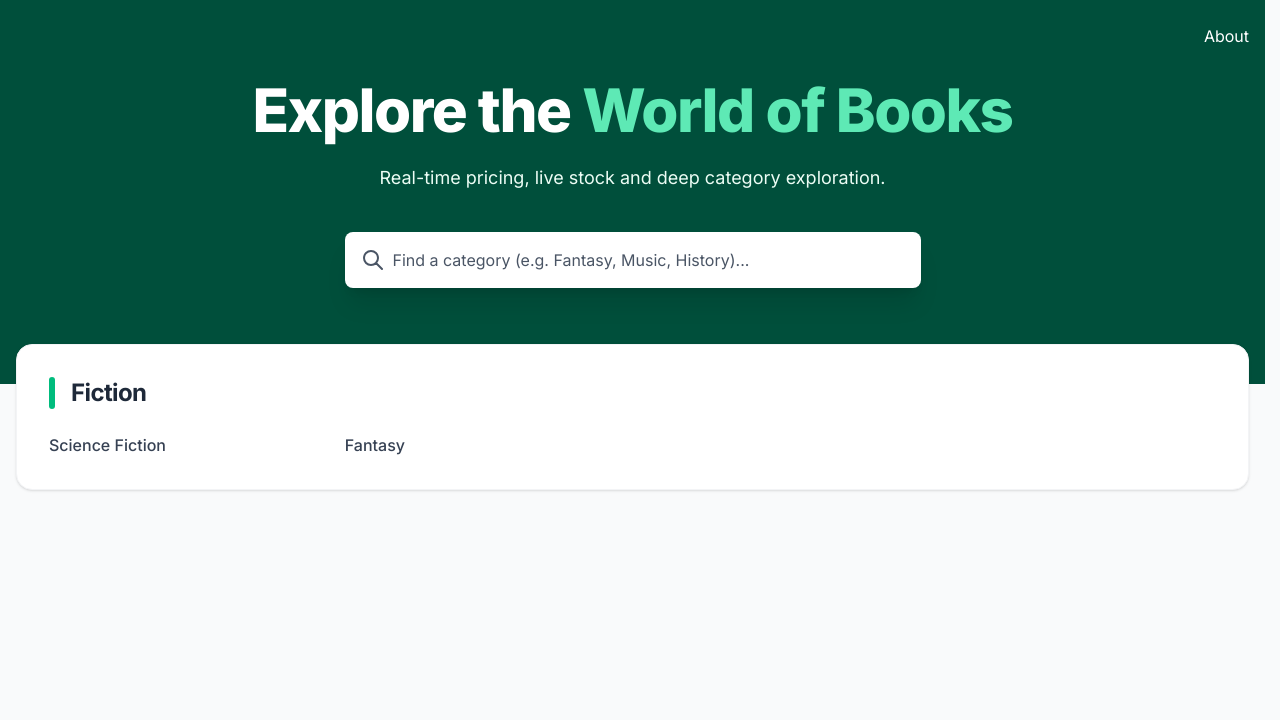
Scenario: HomePage › should suggest the closest category for a typo
Expected: the text "Fantasy" is shown, left=345, top=435, right=405, bottom=455
Type "fantsy" into the search field labelled "Find a category" at x=632, y=260, box left=344, top=232, right=920, bottom=288
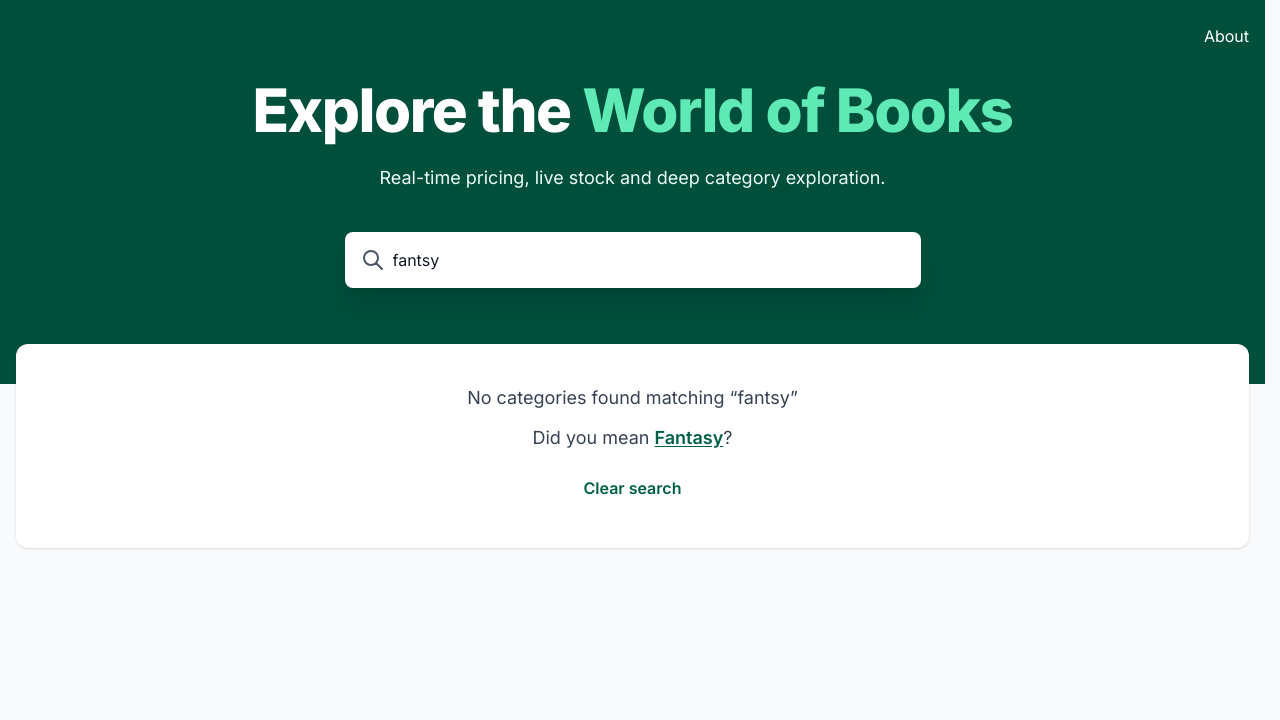
Result: the text "Did you mean Fantasy ?" is shown at left=532, top=424, right=732, bottom=452
Click the button "Fantasy" at x=689, y=438, box left=654, top=424, right=723, bottom=452
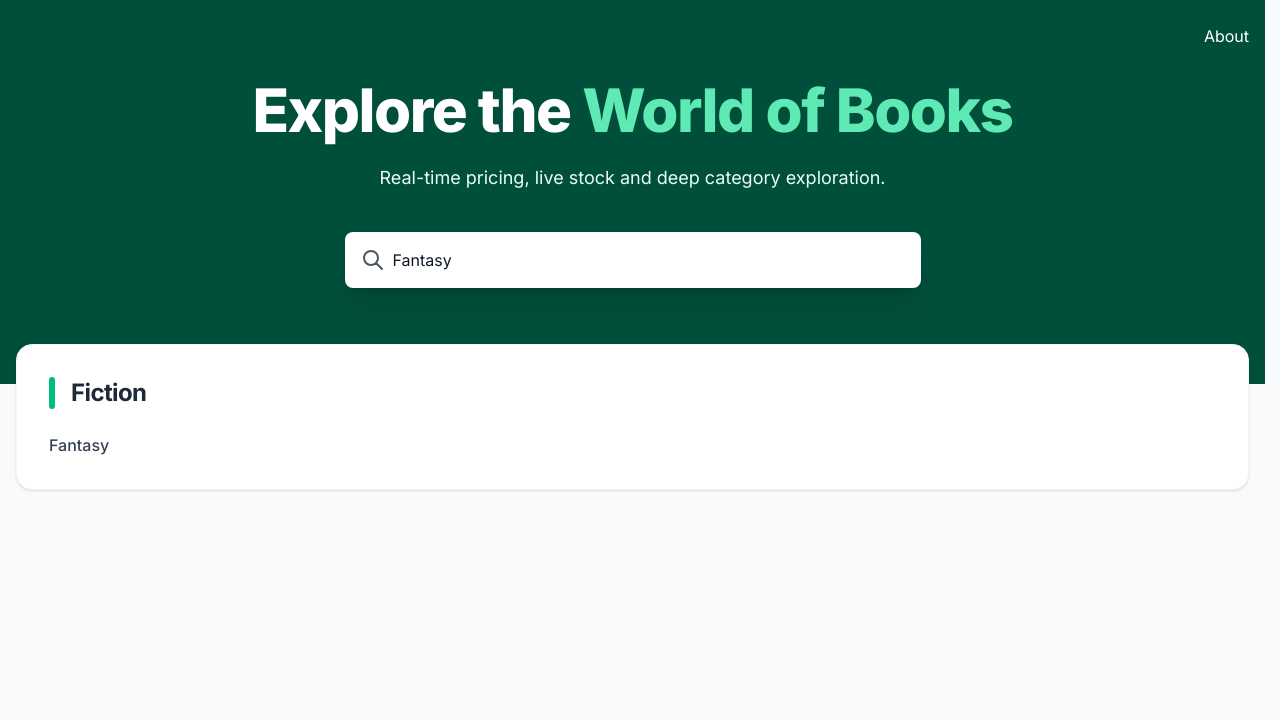
Expected: the link "Fantasy" is shown, left=49, top=435, right=109, bottom=455
Result: the search field named "Find a category" holds "Fantasy" at left=344, top=232, right=920, bottom=288
